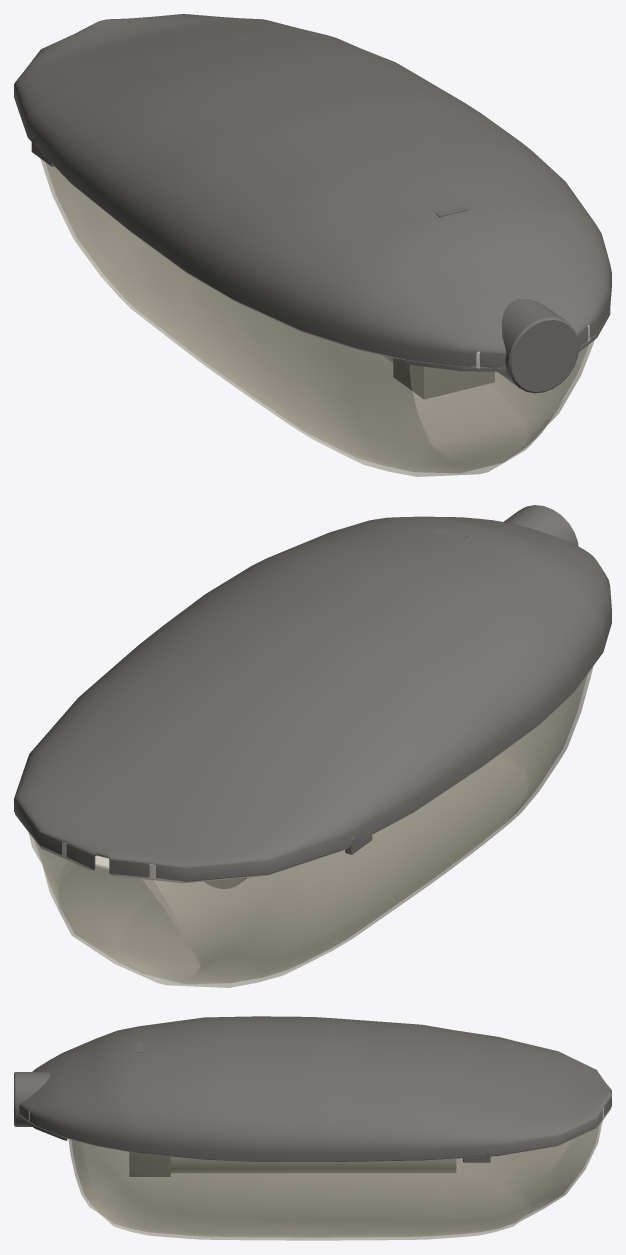
The model's file is lamp_lantern.glb.
The picture shows the model from 3 angles, top to bottom: view 1: azimuth 30°, elevation 25°; view 2: azimuth 150°, elevation 25°; view 3: azimuth 270°, elevation 25°; orthographic projection. The views are drawn at different scales.
Visible parts, largest first — view 1: canopy, bowl, boss, lamp_holder, soffit; view 2: canopy, bowl, boss; view 3: canopy, bowl, lamp_jacket, lamp_holder, boss.
Boxes of the visible parts, <box> form: canopy: <box>14,14,611,368</box>; bowl: <box>40,158,594,476</box>; boss: <box>498,299,579,393</box>; lamp_holder: <box>393,205,494,399</box>; soffit: <box>400,310,610,371</box>; canopy: <box>14,516,611,883</box>; bowl: <box>28,666,593,987</box>; boss: <box>504,505,578,546</box>; canopy: <box>19,1016,611,1162</box>; bowl: <box>68,1122,602,1240</box>; lamp_jacket: <box>171,1157,455,1172</box>; lamp_holder: <box>129,1043,170,1176</box>; boss: <box>14,1072,50,1126</box>.
Bounding box in the file's own units: 0.3 × 0.2 × 0.6488.
